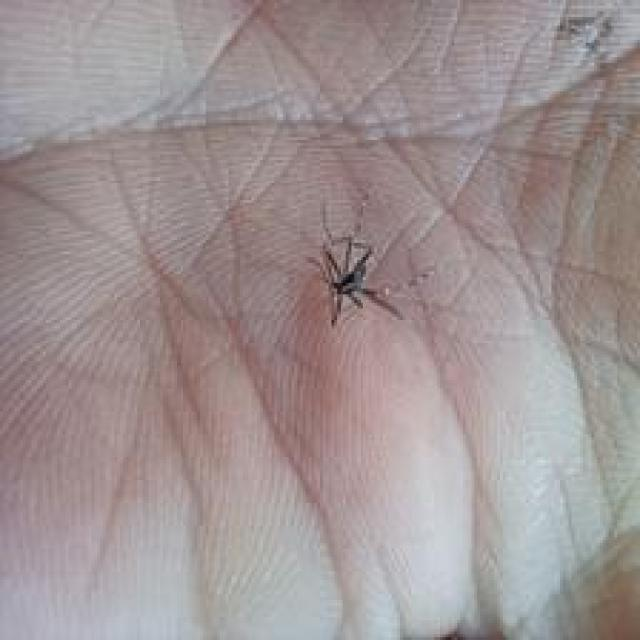Aedes albopictus: (307, 233, 404, 327)
